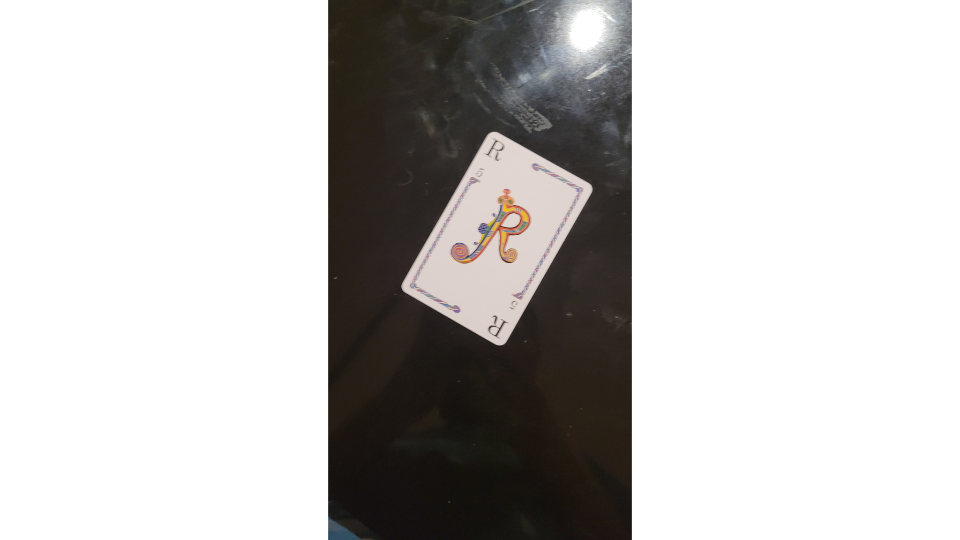R: (399, 129, 596, 349)
